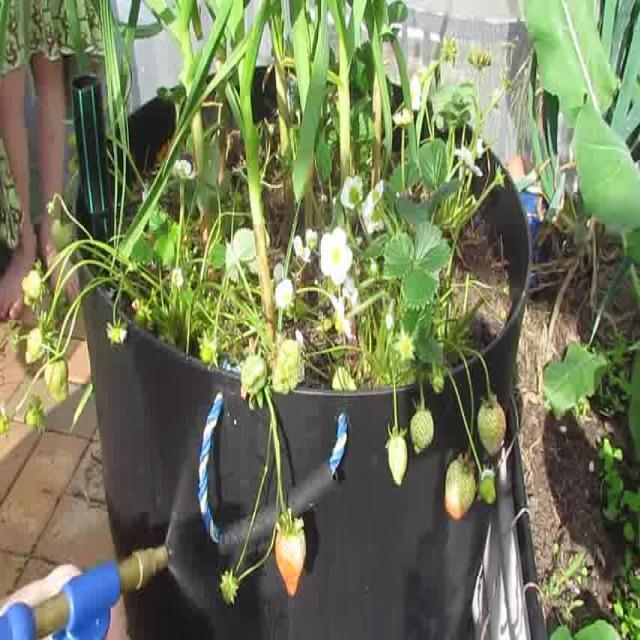Fruta sana: (444, 450, 477, 520), (477, 394, 506, 456), (272, 339, 301, 394), (26, 310, 54, 363), (410, 406, 435, 458), (45, 354, 68, 406), (22, 257, 48, 299), (240, 354, 266, 394), (221, 566, 241, 606), (51, 214, 73, 250), (24, 271, 43, 306), (332, 366, 358, 390), (478, 470, 496, 504), (24, 396, 42, 426), (432, 364, 444, 394), (318, 318, 332, 334)
Moho gris: (274, 508, 306, 598), (385, 424, 408, 488)
